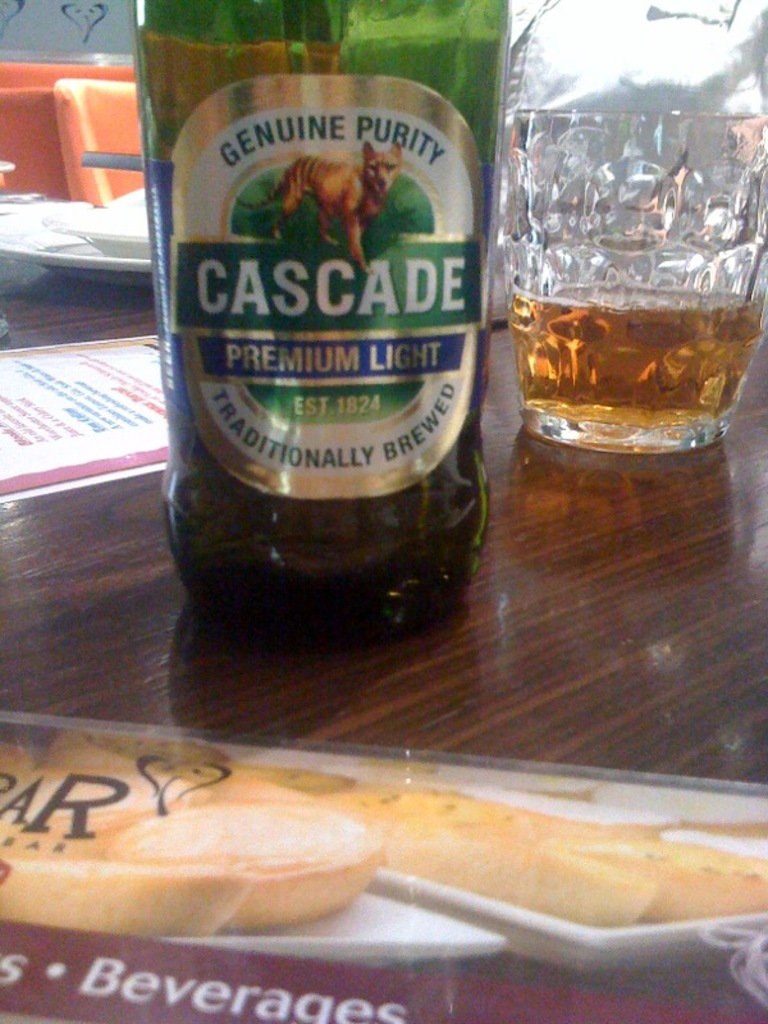Beer: (126, 1, 546, 620), (483, 79, 766, 471)
